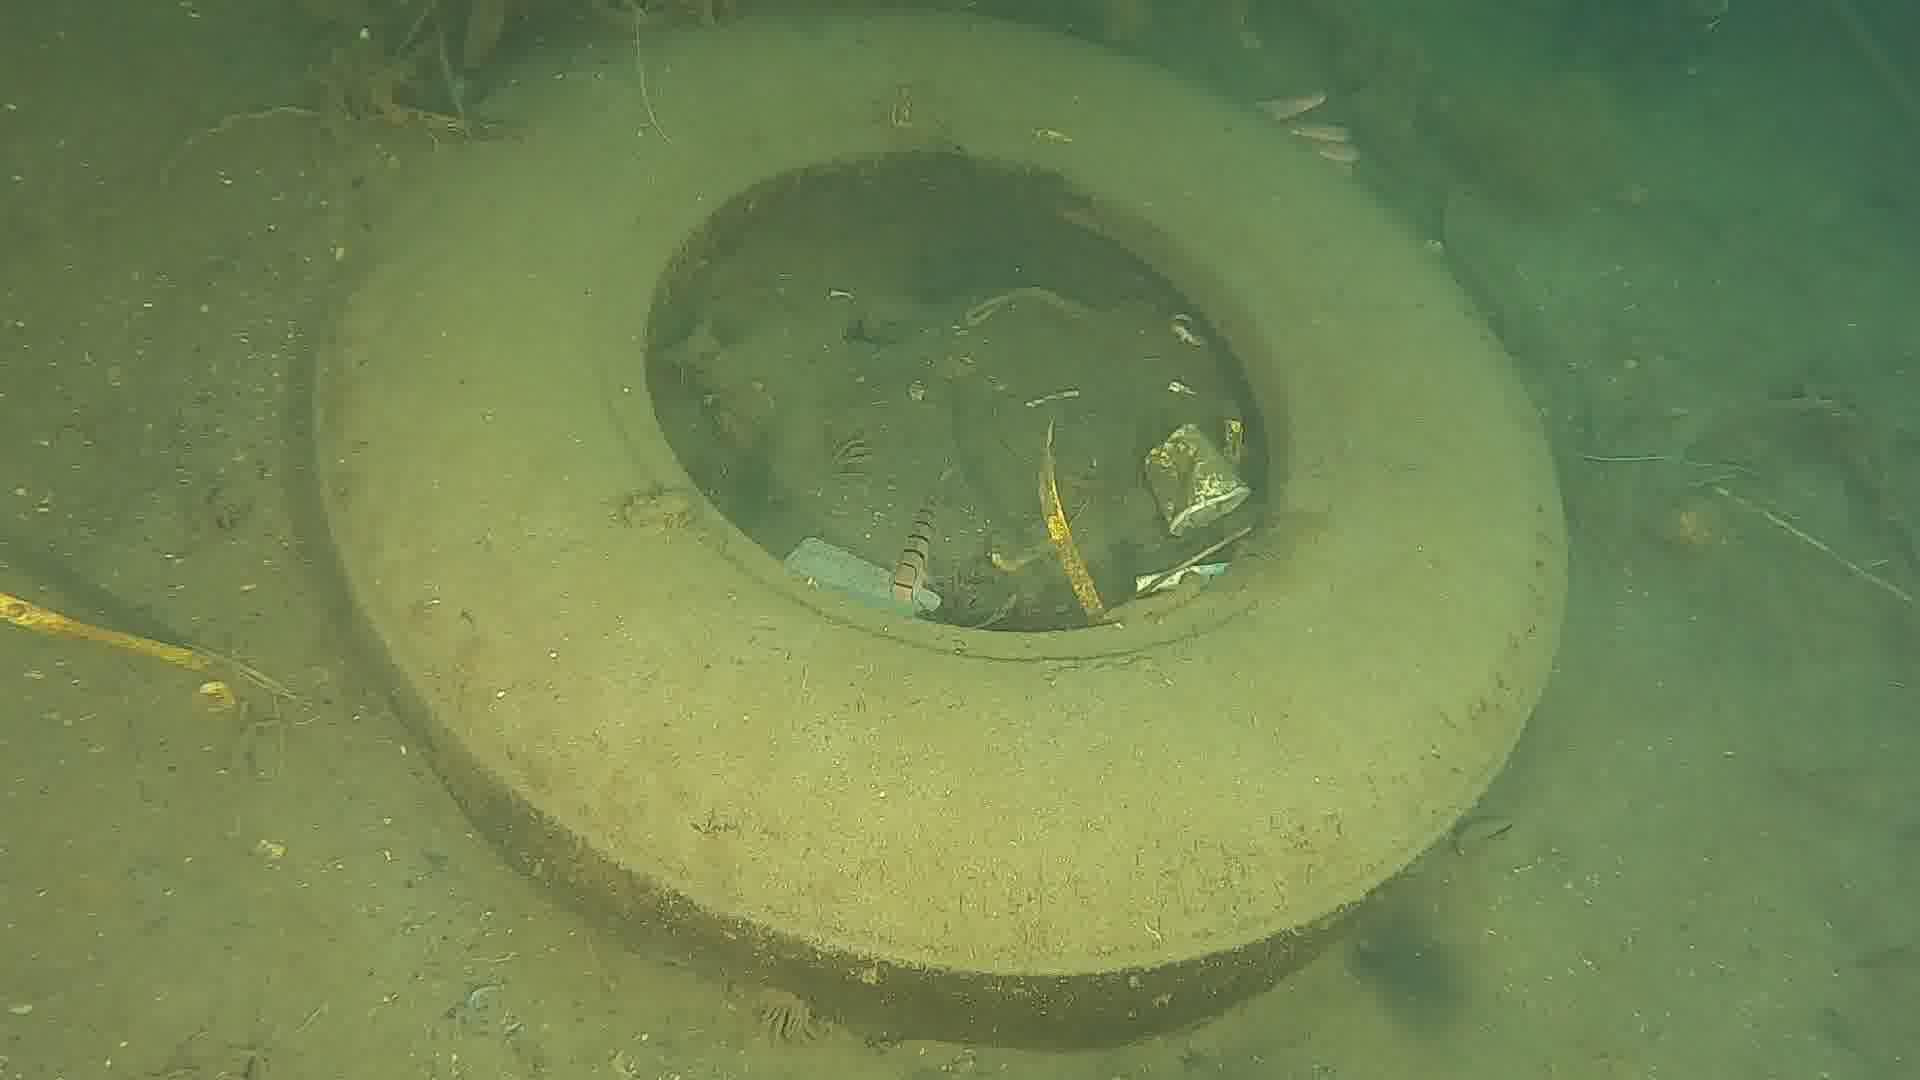tire: (303, 0, 1577, 1048)
